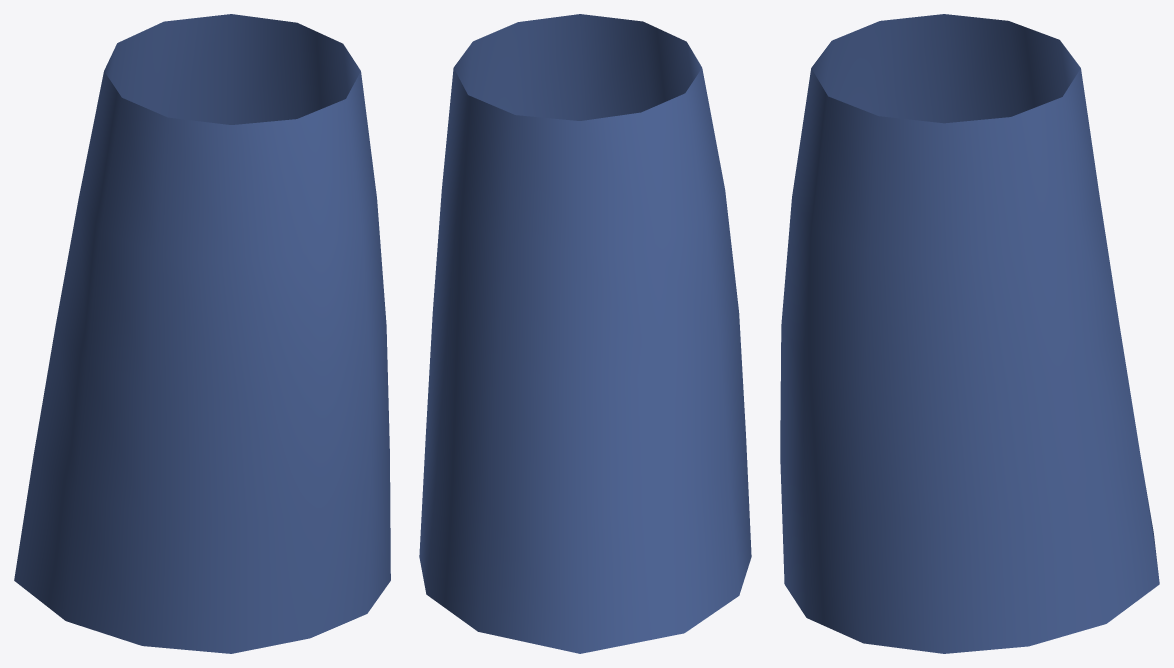
The model's file is spectre_armor_cuisse.R.glb.
3 views of the same model, side by side, from view 1: azimuth 30°, elevation 25°; view 2: azimuth 150°, elevation 25°; view 3: azimuth 270°, elevation 25° (orthographic). The views are drawn at different scales.
Parts seen in each view (by area): view 1: spectre_armor_cuisse.R; view 2: spectre_armor_cuisse.R; view 3: spectre_armor_cuisse.R.
Boxes of the visible parts, x1,y1,x2,y2 form: spectre_armor_cuisse.R: [14, 14, 390, 653]; spectre_armor_cuisse.R: [419, 14, 751, 653]; spectre_armor_cuisse.R: [780, 14, 1159, 653].
Size of the model in its own units: 0.2329 by 0.37 by 0.2466.
